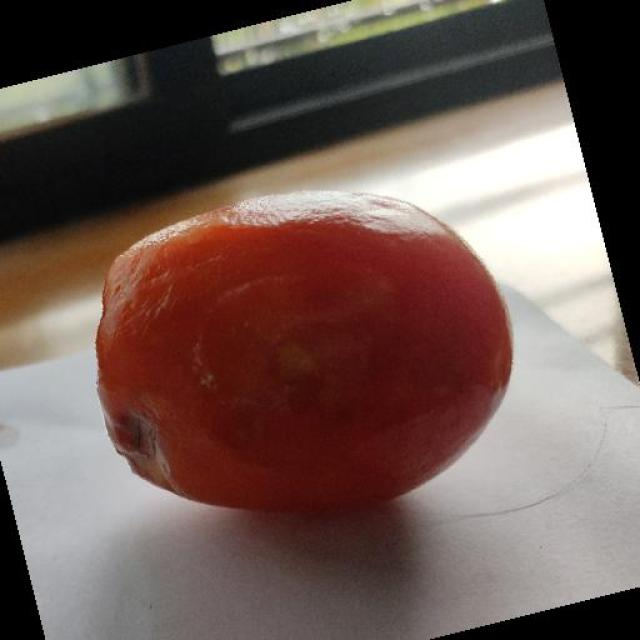Stale_tomato: (81, 205, 514, 515)
